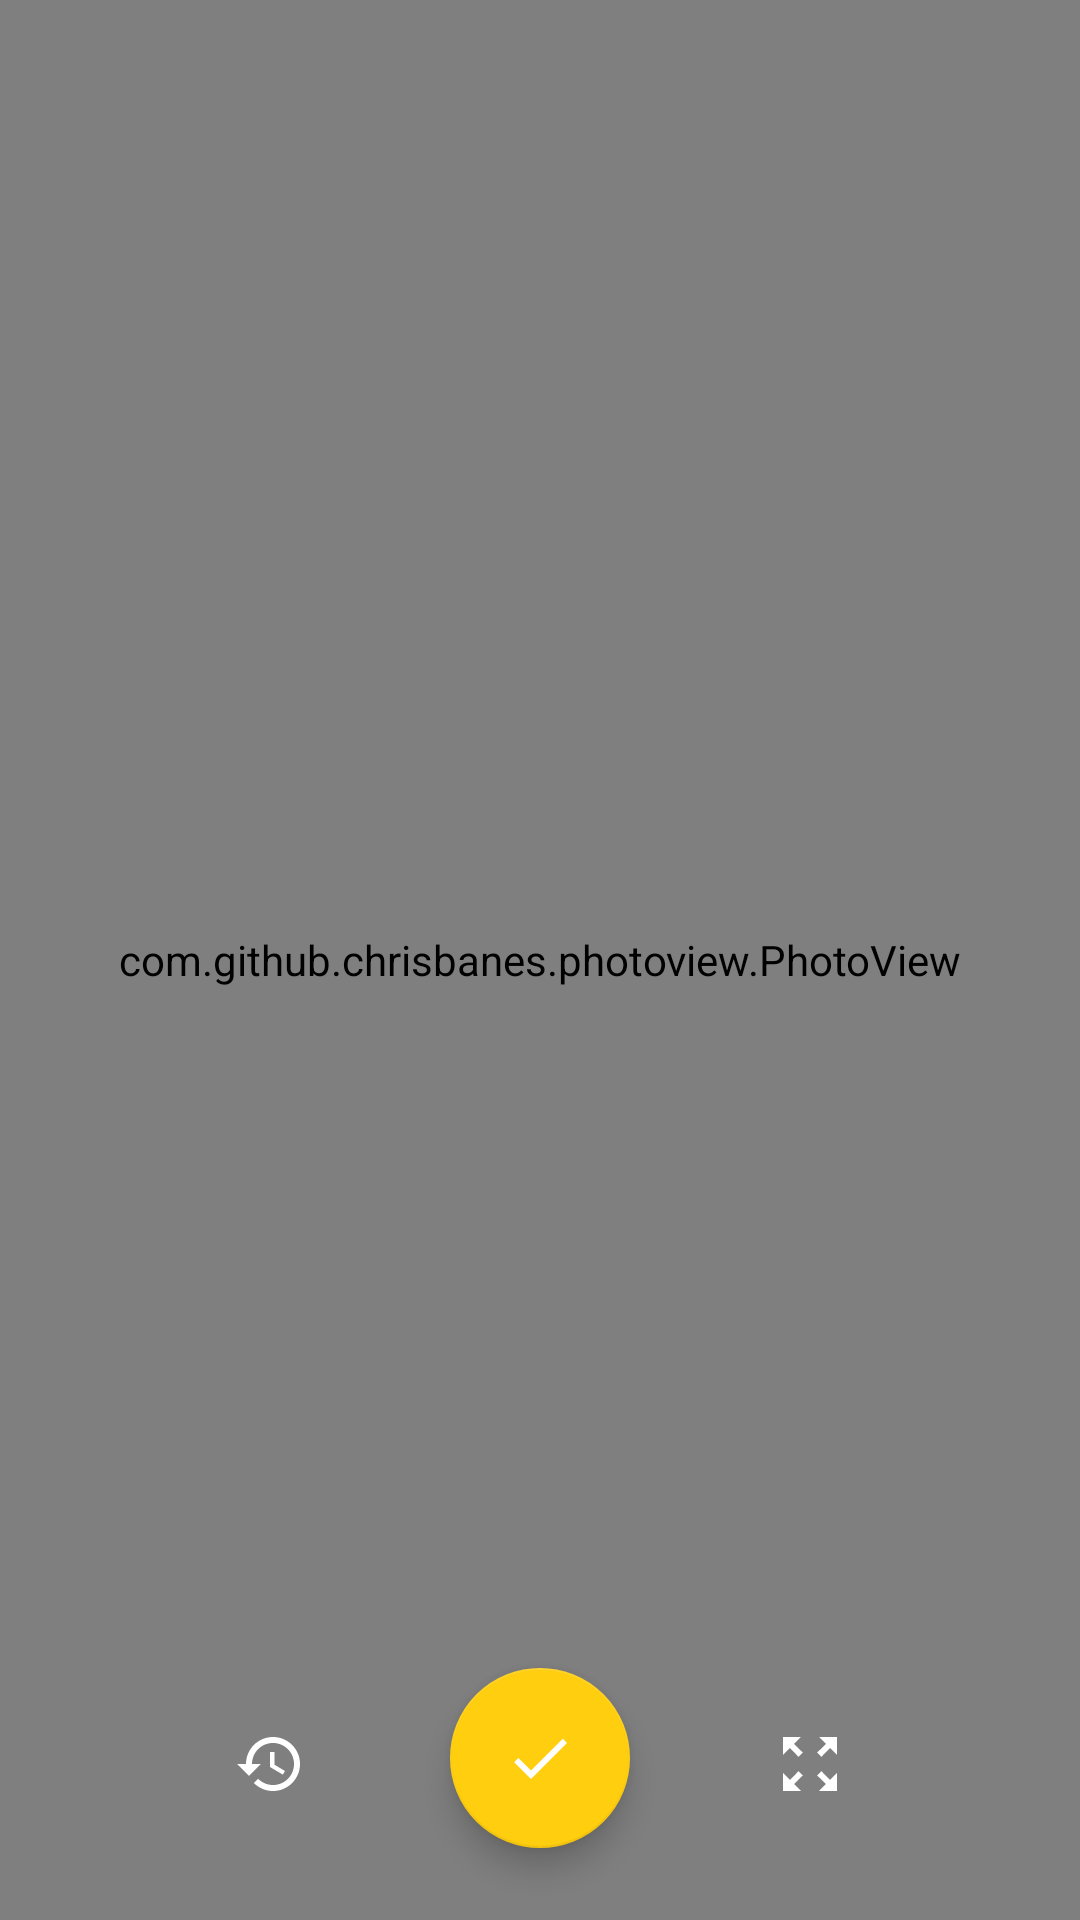

Named icons in this screenshot (1080x1920) and their bounding boxes, (x1, y1, x2, y2):
done: (450, 1668, 630, 1848)
history: (237, 1737, 300, 1791)
zoom out map: (783, 1737, 837, 1791)
